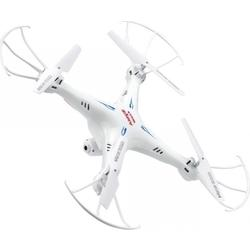drone: (2, 19, 250, 232)
